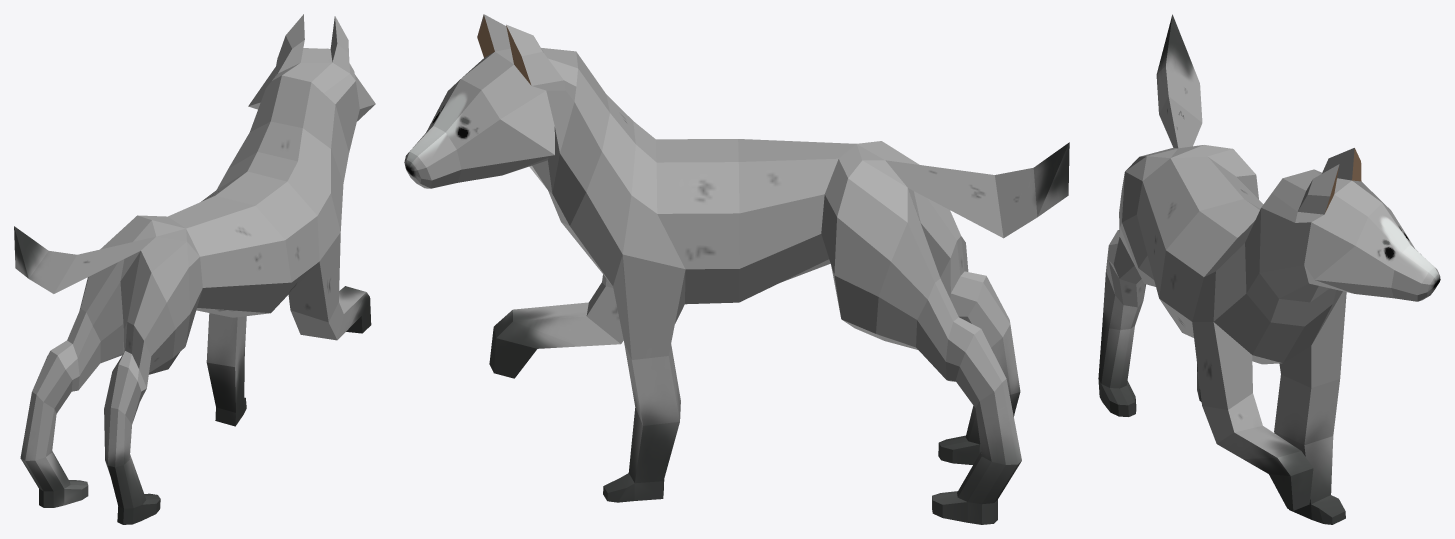
File: wolf.gltf
3 renders of one model, left to right at view 1: azimuth 30°, elevation 25°; view 2: azimuth 150°, elevation 25°; view 3: azimuth 270°, elevation 25°, orthographic. The views are drawn at different scales.
Visible parts, largest first — view 1: wolf; view 2: wolf; view 3: wolf.
Boxes of the visible parts, x1=… form: wolf: x1=14, y1=14, x2=375, y2=524; wolf: x1=404, y1=14, x2=1069, y2=524; wolf: x1=1098, y1=14, x2=1440, y2=524.
Size of the model in its own units: 2.39 by 1.98 by 1.47.
1 material, 1 textured.
